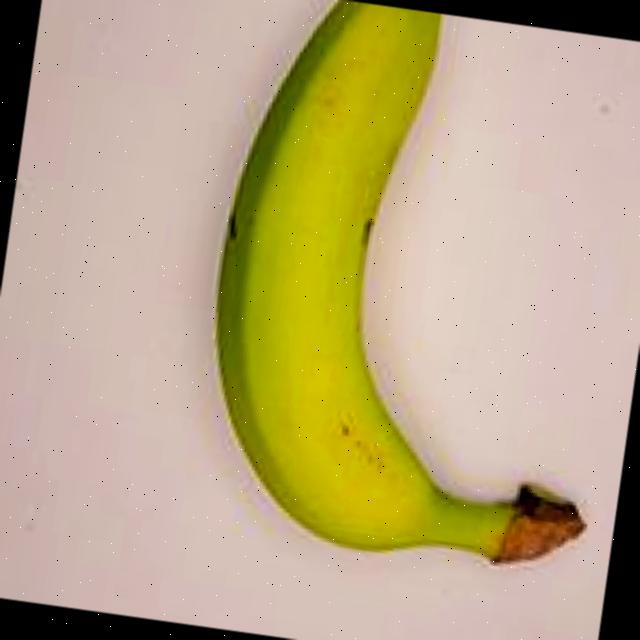Unripe: (154, 0, 640, 616)
